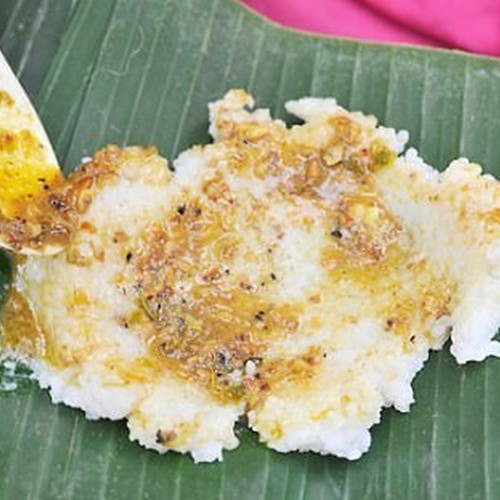nasi tepeng: (13, 103, 474, 433)
